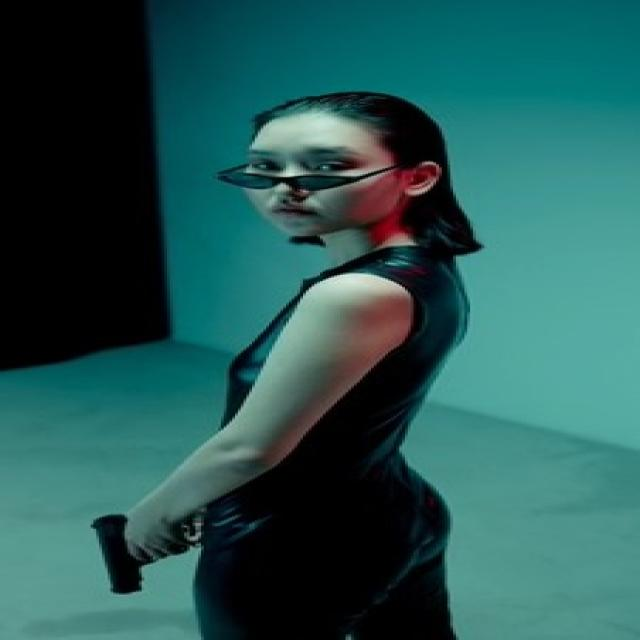Gun_Holder: (46, 502, 228, 604)
Person: (147, 102, 469, 640)
